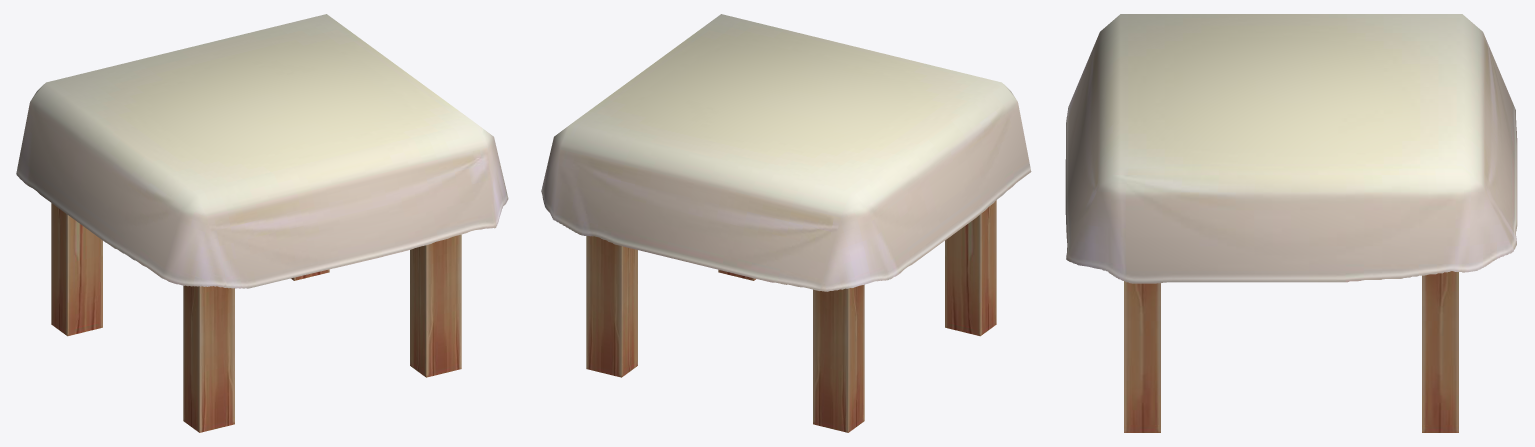
Rendered from SE_Table_01b.fbx.
The picture shows the model from 3 angles, left to right: view 1: azimuth 30°, elevation 25°; view 2: azimuth 150°, elevation 25°; view 3: azimuth 270°, elevation 25°; orthographic projection. The views are drawn at different scales.
Parts seen in each view (by area): view 1: SE_Table_01b; view 2: SE_Table_01b; view 3: SE_Table_01b.
Part boxes in pixels (box(x1,y1,x2,y2)): SE_Table_01b: box(16, 14, 508, 432); SE_Table_01b: box(541, 14, 1031, 432); SE_Table_01b: box(1065, 14, 1517, 432).
Bounding box in the file's own units: 2.56 × 1.68 × 2.56.
